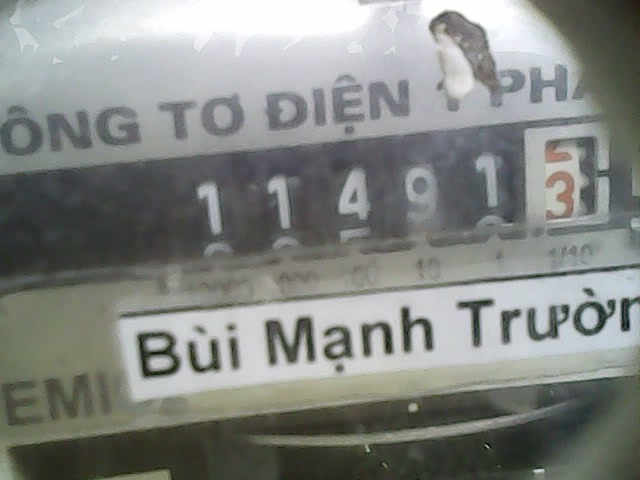phy_plate: (180, 116, 626, 263)
